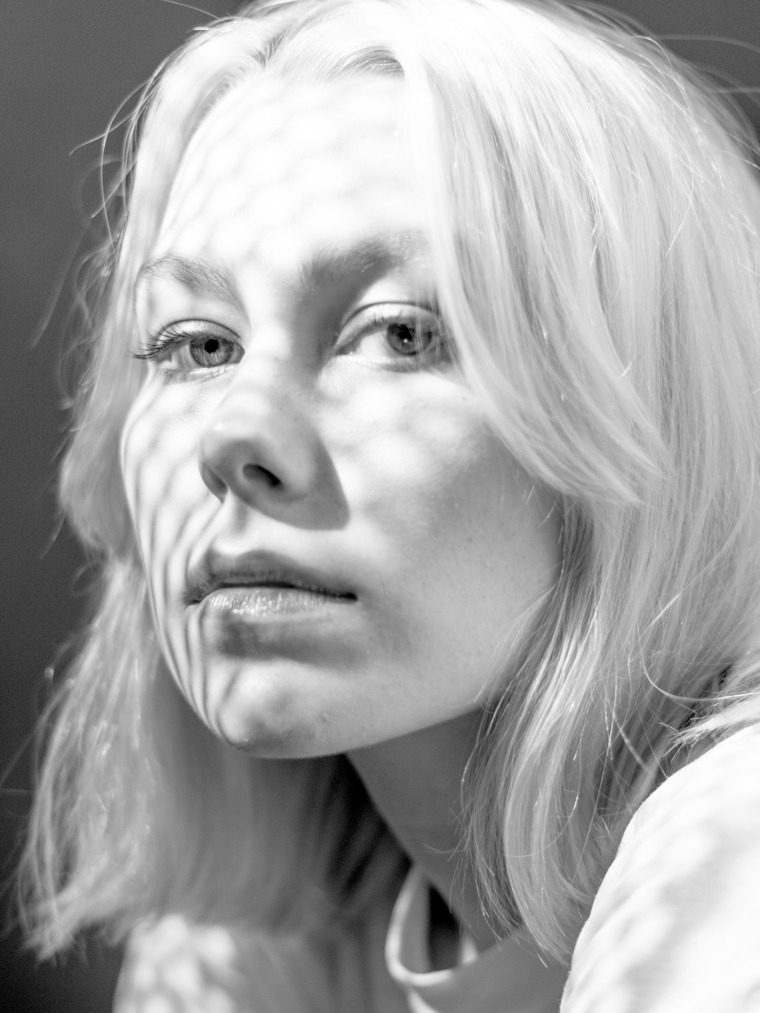sad: (115, 66, 552, 765)
